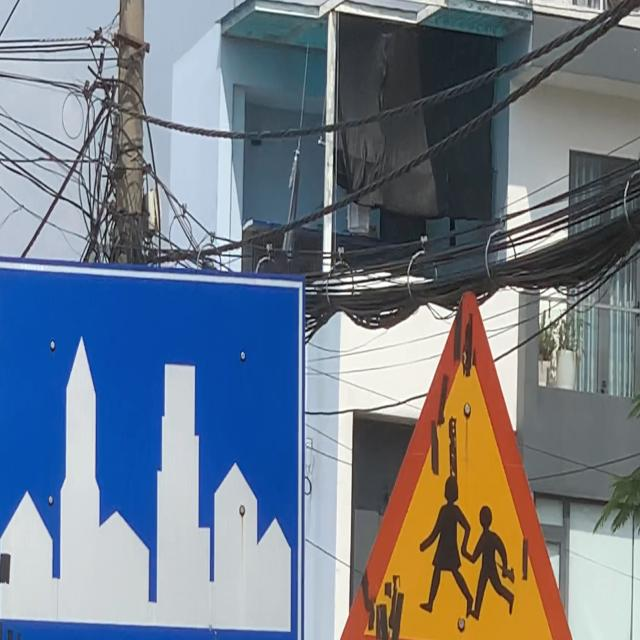Nguy hiem: (334, 282, 586, 640)
